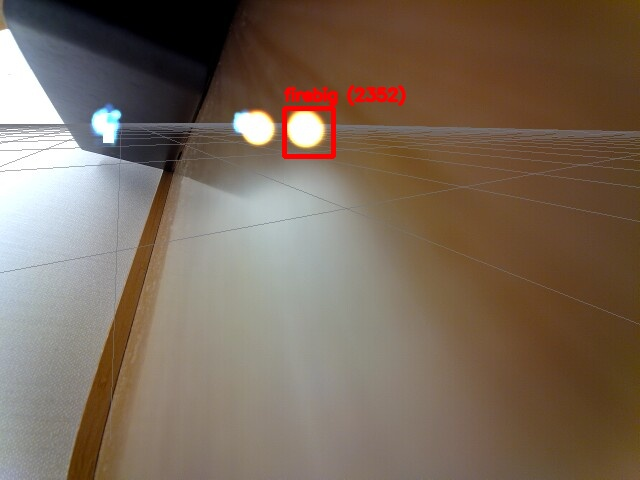firebig: (284, 108, 333, 156)
